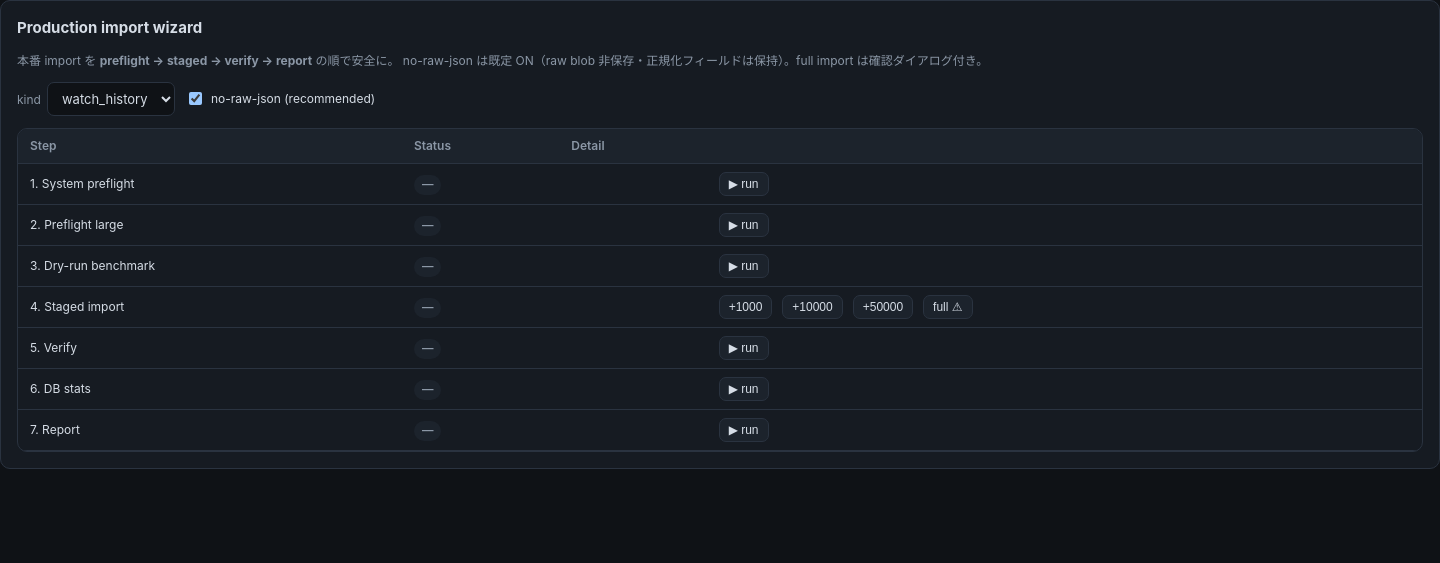
Test: Phase 6G production import wizard › staged import submits a no-raw-json job and report shows leak-clean
staged: click the +1000 stage button (watch_history default)
Click the button "+1000" at coordinates (745, 306), box x1=719 y1=294 x2=772 y2=318
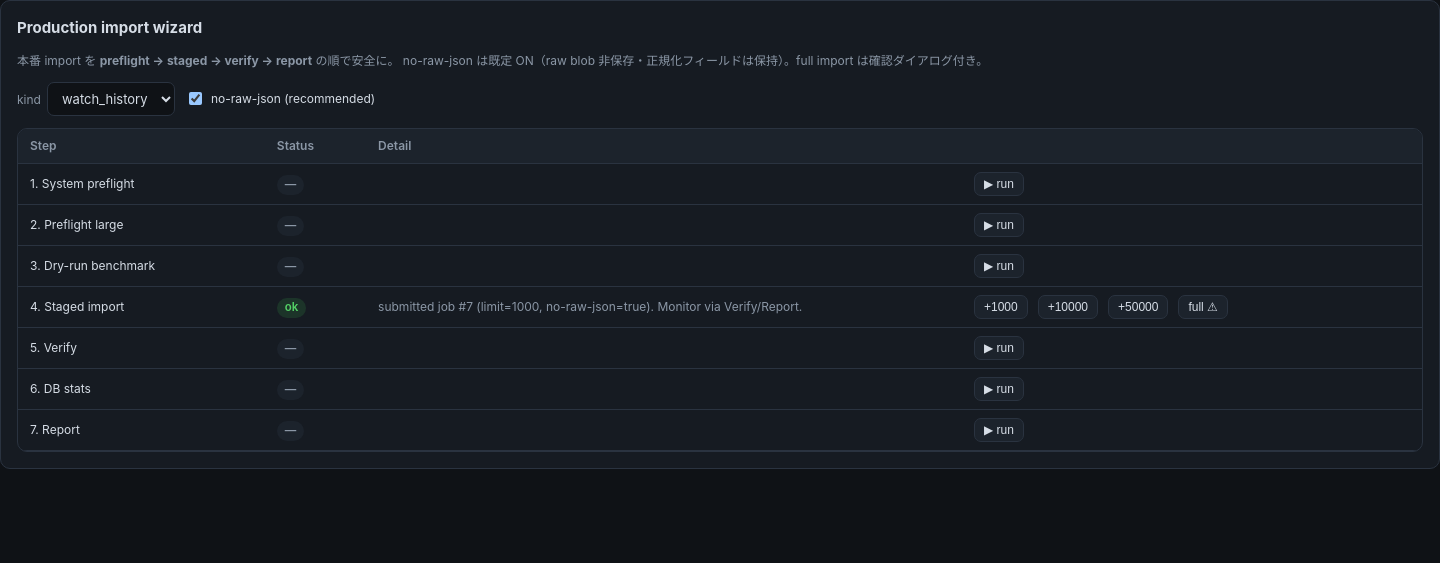
Expected: the text "submitted job #7" is shown, x1=378 y1=298 x2=802 y2=314
report step
Click the button "▶ run" in the row of "7. Report" at coordinates (999, 430), box x1=974 y1=418 x2=1024 y2=442
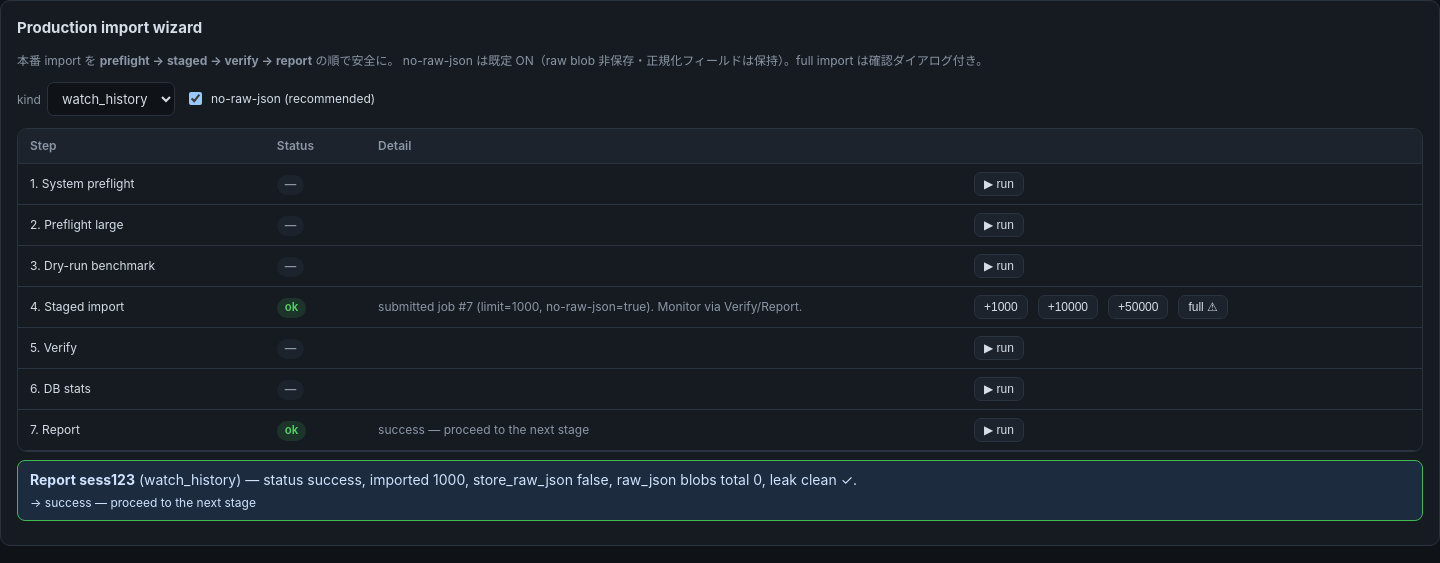
Expected: the text "leak clean" is shown, x1=17 y1=460 x2=1423 y2=520
